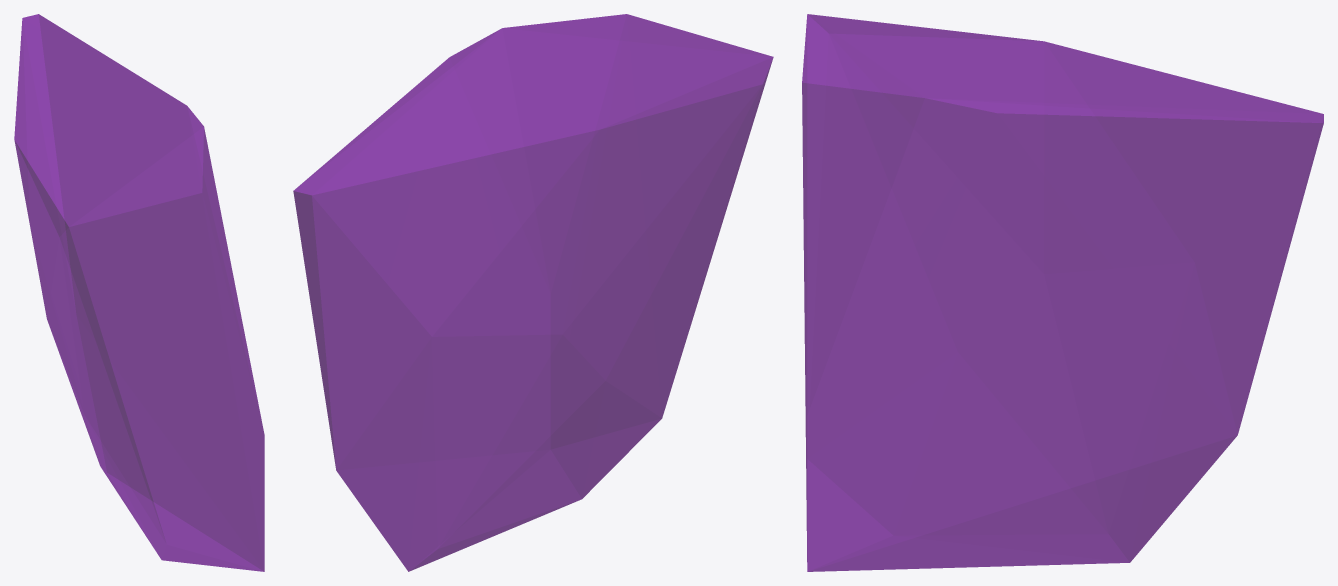
The picture shows the model from 3 angles, left to right: view 1: azimuth 30°, elevation 25°; view 2: azimuth 150°, elevation 25°; view 3: azimuth 270°, elevation 25°; orthographic projection. The views are drawn at different scales.
Visible parts, largest first — view 1: Shape_IndexedFaceSet.036_Shape_IndexedFaceSet.4382; view 2: Shape_IndexedFaceSet.036_Shape_IndexedFaceSet.4382; view 3: Shape_IndexedFaceSet.036_Shape_IndexedFaceSet.4382.
Part boxes in pixels (box(x1,y1,x2,y2)): Shape_IndexedFaceSet.036_Shape_IndexedFaceSet.4382: box(14, 14, 264, 571); Shape_IndexedFaceSet.036_Shape_IndexedFaceSet.4382: box(293, 14, 773, 571); Shape_IndexedFaceSet.036_Shape_IndexedFaceSet.4382: box(802, 14, 1323, 571).
Size of the model in its own units: 0.0789 by 0.1535 by 0.1549.
